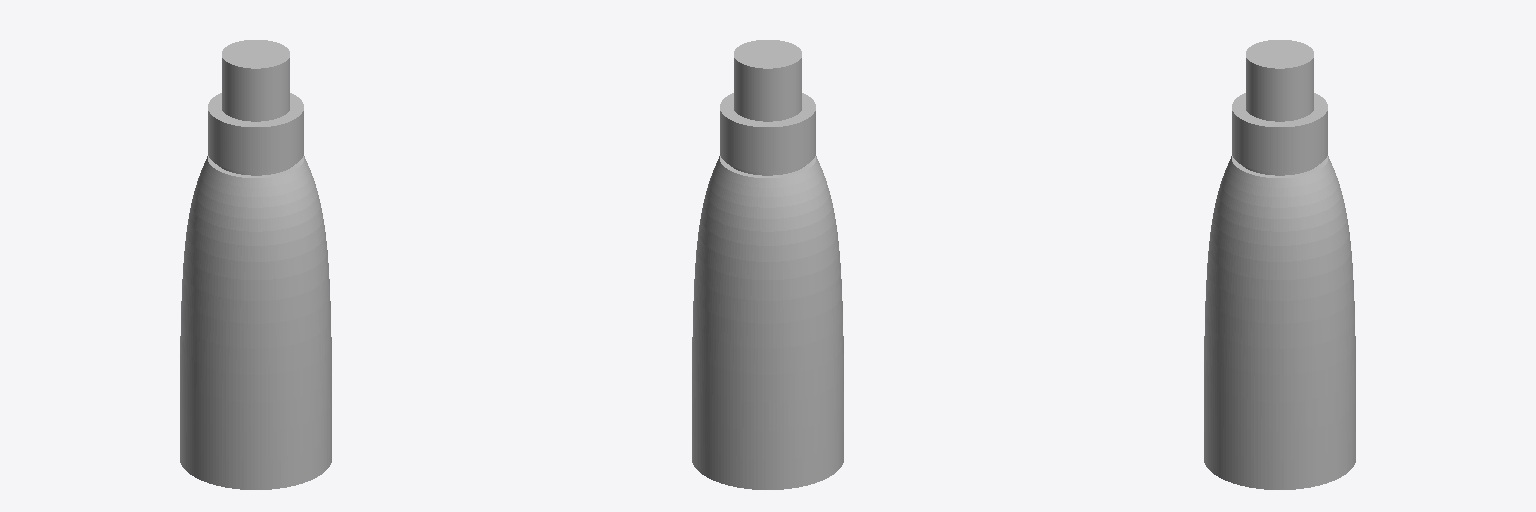
Rendered from Spray_GlassCleaner.obj.
3 renders of one model, left to right at view 1: azimuth 30°, elevation 25°; view 2: azimuth 150°, elevation 25°; view 3: azimuth 270°, elevation 25°, orthographic.
Parts seen in each view (by area): view 1: Circle; view 2: Circle; view 3: Circle.
Boxes of the visible parts, x1,y1,x2,y2 form: Circle: [180, 40, 331, 489]; Circle: [692, 40, 843, 489]; Circle: [1204, 40, 1355, 489].
Bounding box in the file's own units: 0.7784 × 2.27 × 0.7784.